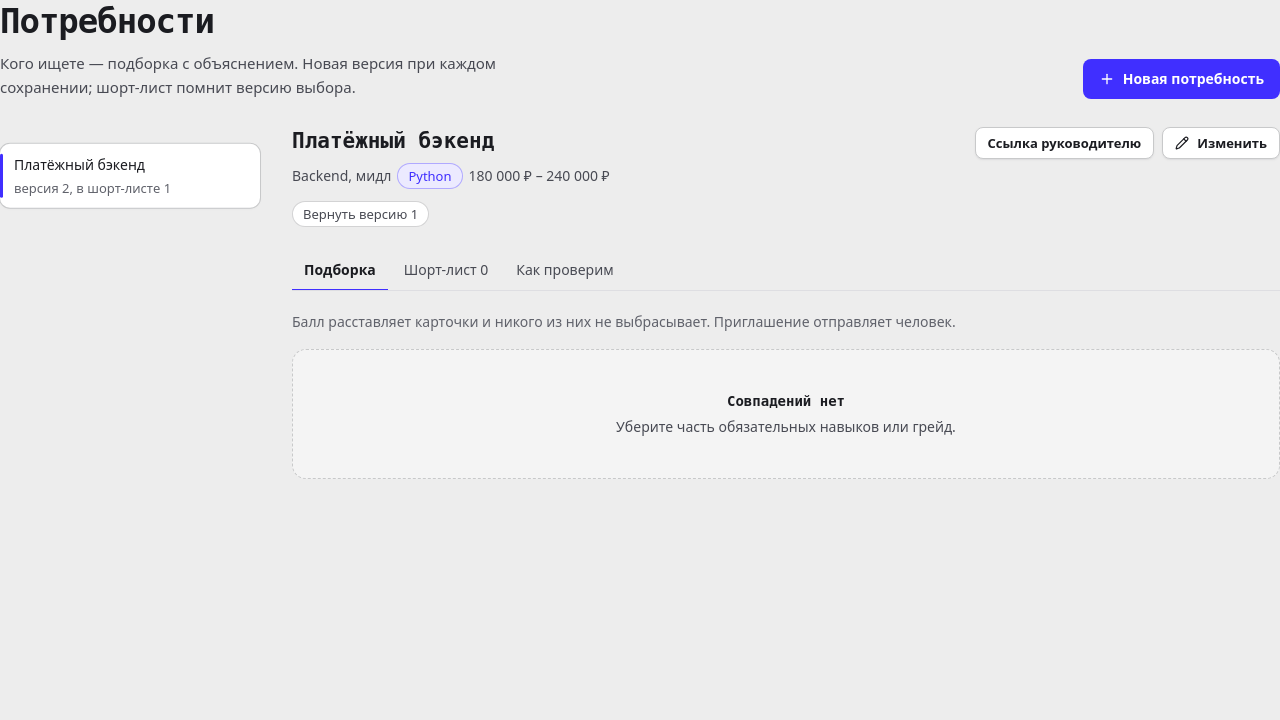
Scenario: потребность › готовая потребность заполняет форму и сама её не сохраняет
Click the button "Новая потребность". click: [1181, 79]
box: [1083, 59, 1279, 99]
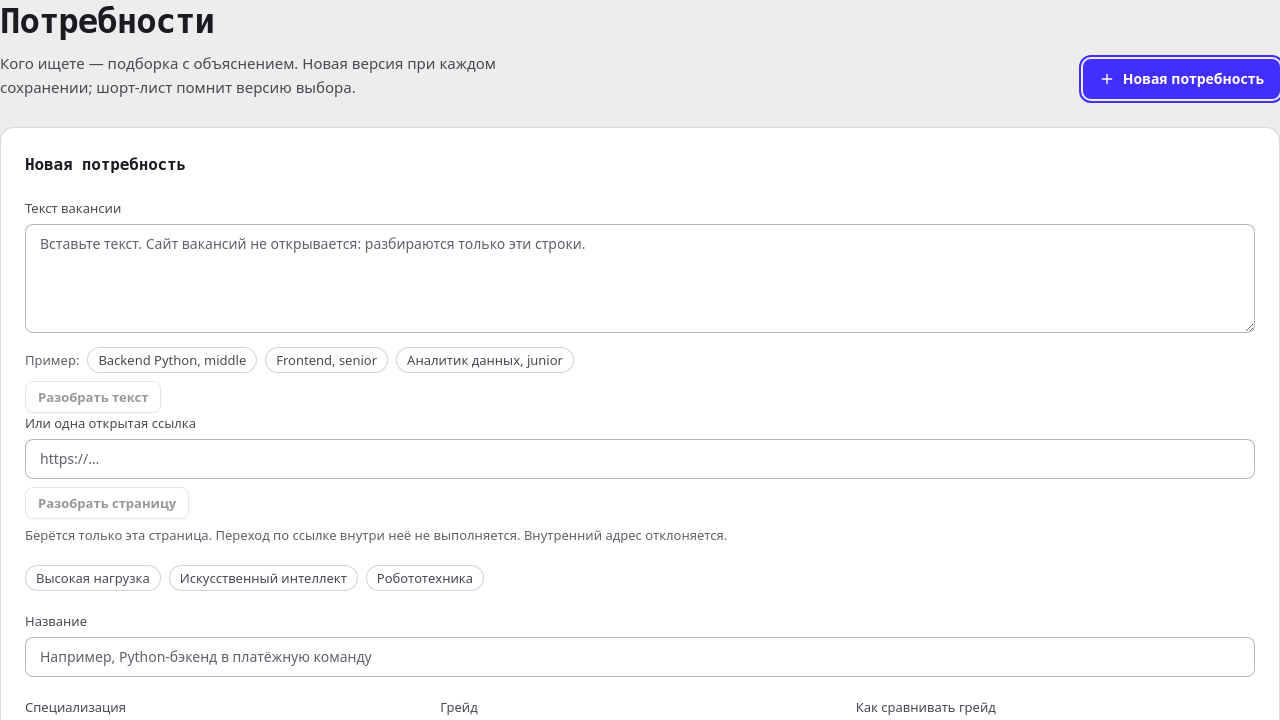
Click the button "Высокая нагрузка". click: [93, 578]
box: [25, 565, 161, 591]
(page scrolled)
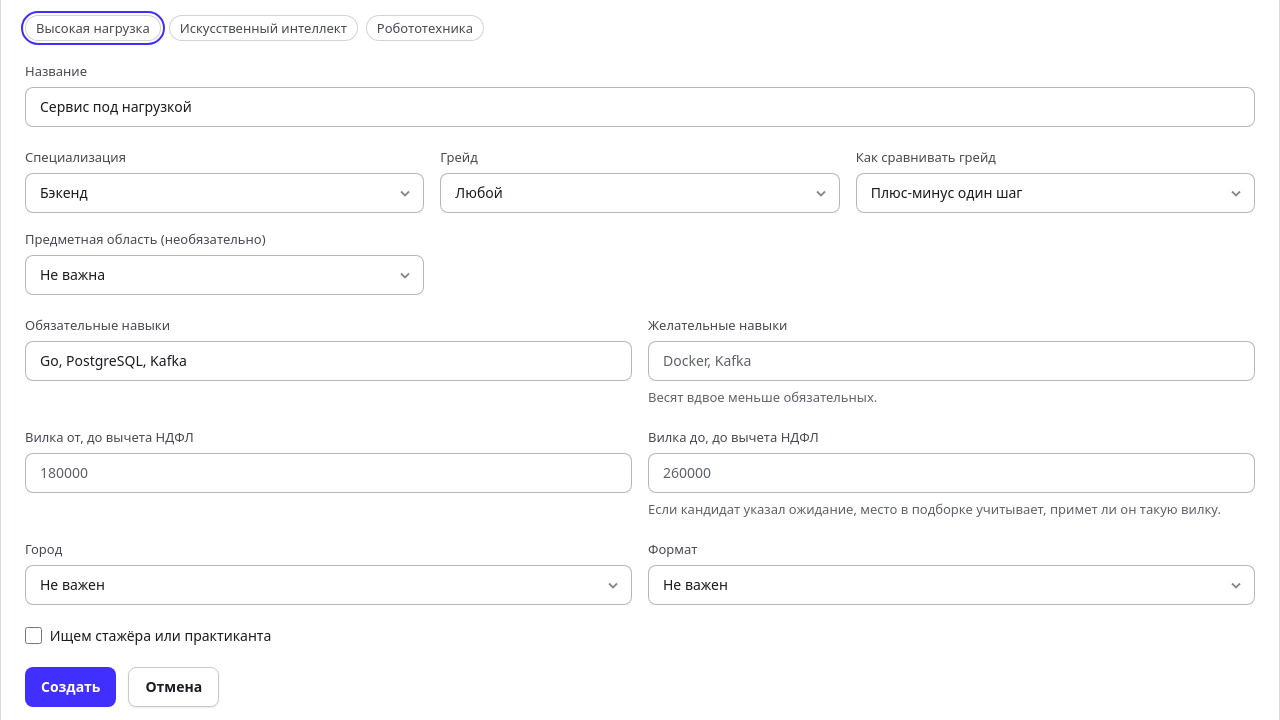
Check: the field labelled "Название" holds "Сервис под нагрузкой", box [25, 87, 1255, 127]
Check: the field labelled "Обязательные навыки" holds "Go, PostgreSQL, Kafka", box [25, 341, 632, 381]
